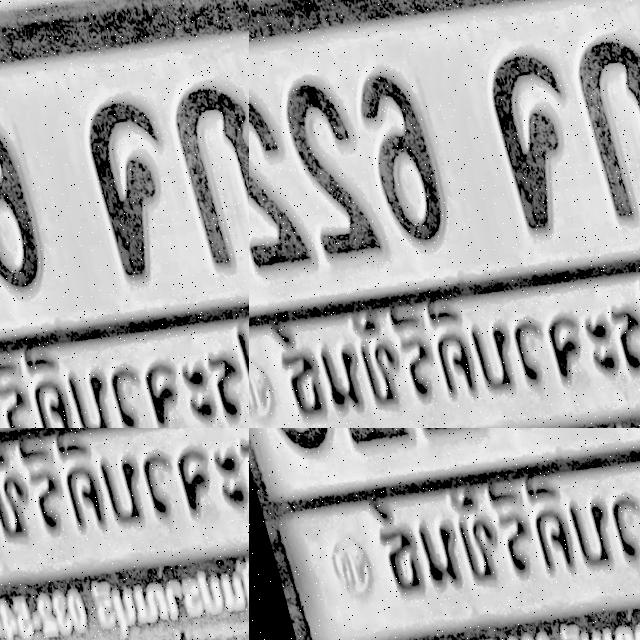license-plate: (249, 428, 640, 640), (459, 0, 640, 121), (209, 0, 249, 39)
